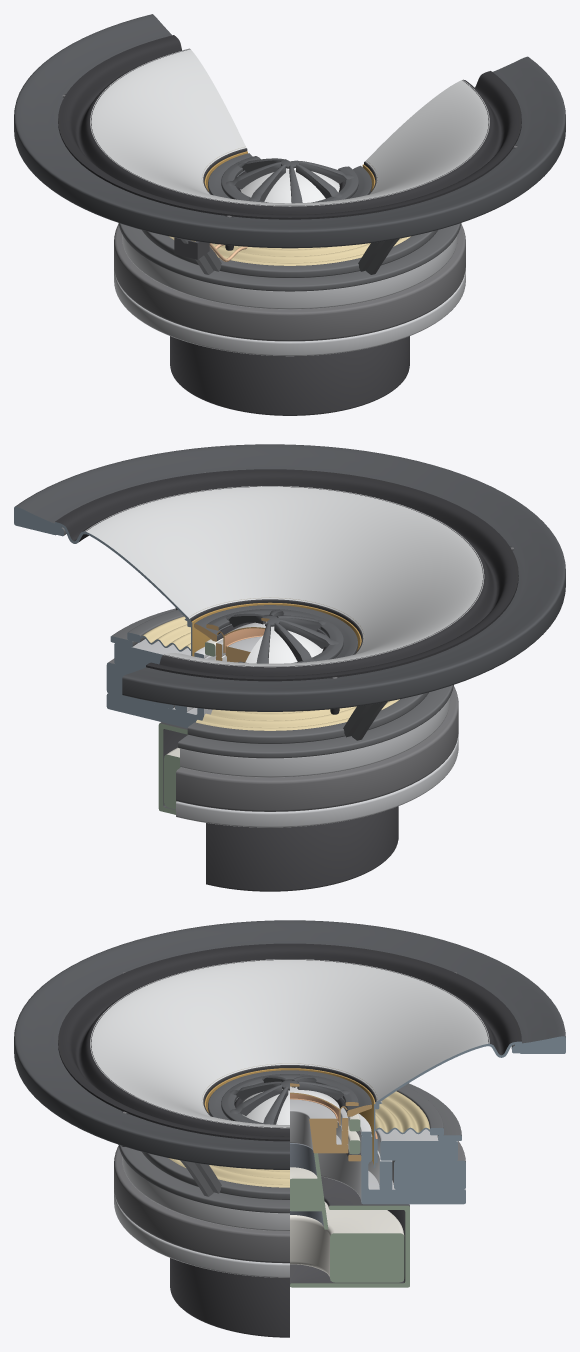
The model's file is uniq.glb.
3 renders of one model, top to bottom at view 1: azimuth 30°, elevation 25°; view 2: azimuth 150°, elevation 25°; view 3: azimuth 270°, elevation 25°, orthographic. The views are drawn at different scales.
Parts seen in each view (by area): view 1: trim_ring, mid_cone, mid_surround, rear_chamber, mid_magnet, mid_basket, mid_topplate, mid_backplate, waveguide, mid_spider, tweeter_dome, tweeter_support (+1 smaller); view 2: mid_cone, trim_ring, mid_surround, rear_chamber, mid_magnet, mid_basket, mid_topplate, mid_backplate, mid_spider, waveguide, tweeter_support, tweeter_dome (+4 smaller); view 3: mid_cone, trim_ring, mid_surround, rear_chamber, mid_magnet, rear_absorber, mid_basket, mid_backplate, mid_topplate, waveguide, mid_spider, tweeter_motor (+7 smaller).
Boxes of the visible parts, x1,y1,x2,y2 form: trim_ring: [14, 14, 565, 248]; mid_cone: [90, 49, 489, 206]; mid_surround: [58, 35, 521, 219]; rear_chamber: [170, 336, 409, 415]; mid_magnet: [114, 224, 465, 341]; mid_basket: [118, 223, 461, 291]; mid_topplate: [122, 234, 457, 309]; mid_backplate: [114, 268, 465, 356]; waveguide: [221, 156, 358, 203]; mid_spider: [169, 236, 410, 265]; tweeter_dome: [240, 168, 339, 203]; tweeter_support: [208, 153, 371, 198]; mid_cone: [84, 486, 484, 667]; trim_ring: [14, 444, 565, 711]; mid_surround: [54, 469, 518, 681]; rear_chamber: [158, 722, 398, 891]; mid_magnet: [106, 658, 458, 811]; mid_basket: [43, 522, 453, 758]; mid_topplate: [114, 639, 450, 777]; mid_backplate: [106, 655, 458, 827]; mid_spider: [140, 616, 399, 730]; waveguide: [206, 609, 343, 663]; tweeter_support: [194, 605, 357, 658]; tweeter_dome: [223, 621, 323, 663]; mid_cone: [90, 959, 489, 1128]; trim_ring: [14, 920, 565, 1169]; mid_surround: [58, 943, 521, 1141]; rear_chamber: [170, 1176, 409, 1337]; mid_magnet: [114, 1141, 465, 1263]; rear_absorber: [290, 1202, 404, 1282]; mid_basket: [118, 1044, 533, 1213]; mid_backplate: [114, 1130, 465, 1277]; mid_topplate: [122, 1129, 457, 1230]; waveguide: [221, 1074, 358, 1124]; mid_spider: [168, 1091, 430, 1187]; tweeter_motor: [290, 1099, 348, 1153].
Size of the model in its own units: 138 by 69.31 by 138.
